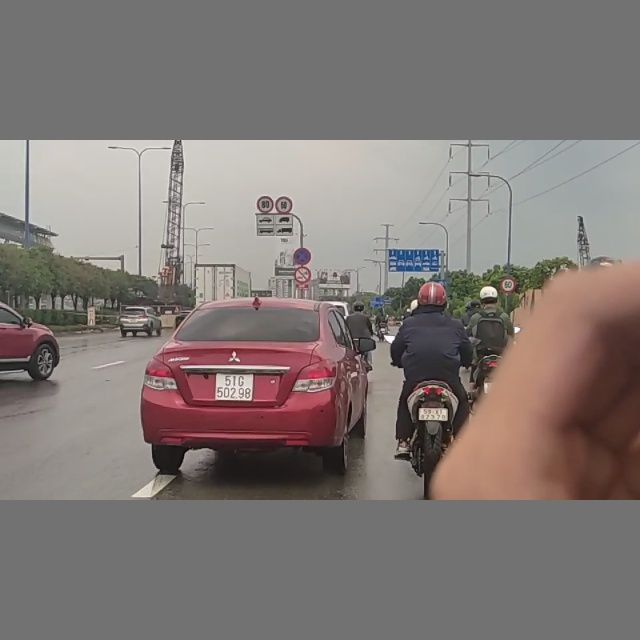B.8a: (294, 266, 312, 284)
P.130: (293, 248, 311, 265)
